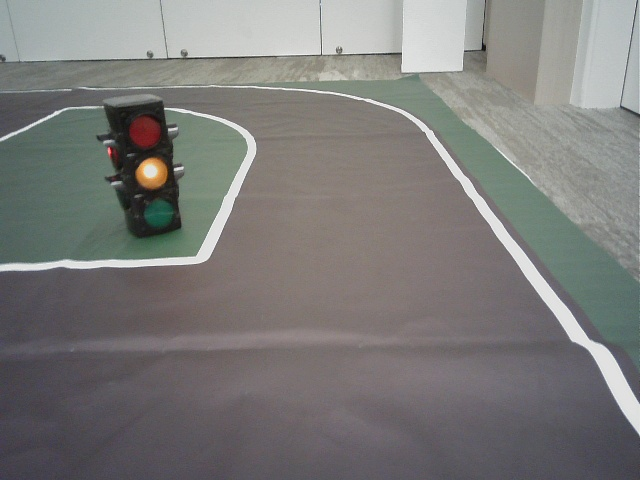yellow: (124, 109, 177, 232)
